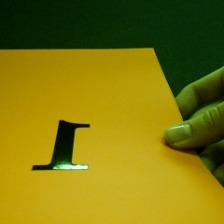orange1: (28, 113, 98, 173)
